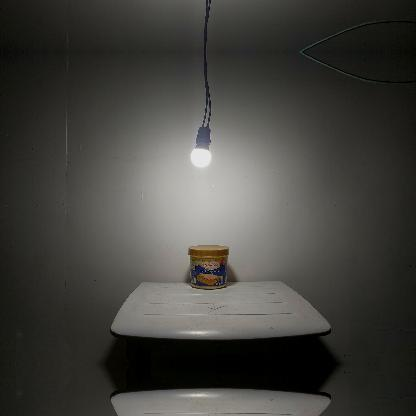Lady-s-Choice: (188, 245, 228, 290)
